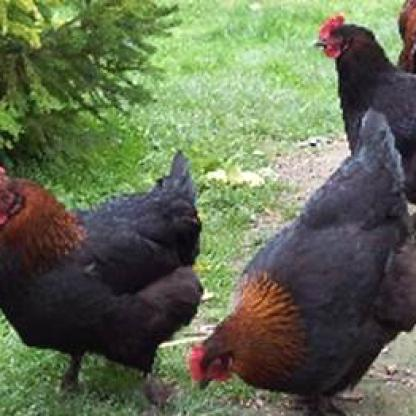chicken: (188, 105, 414, 414), (0, 149, 208, 400), (313, 9, 414, 243)
